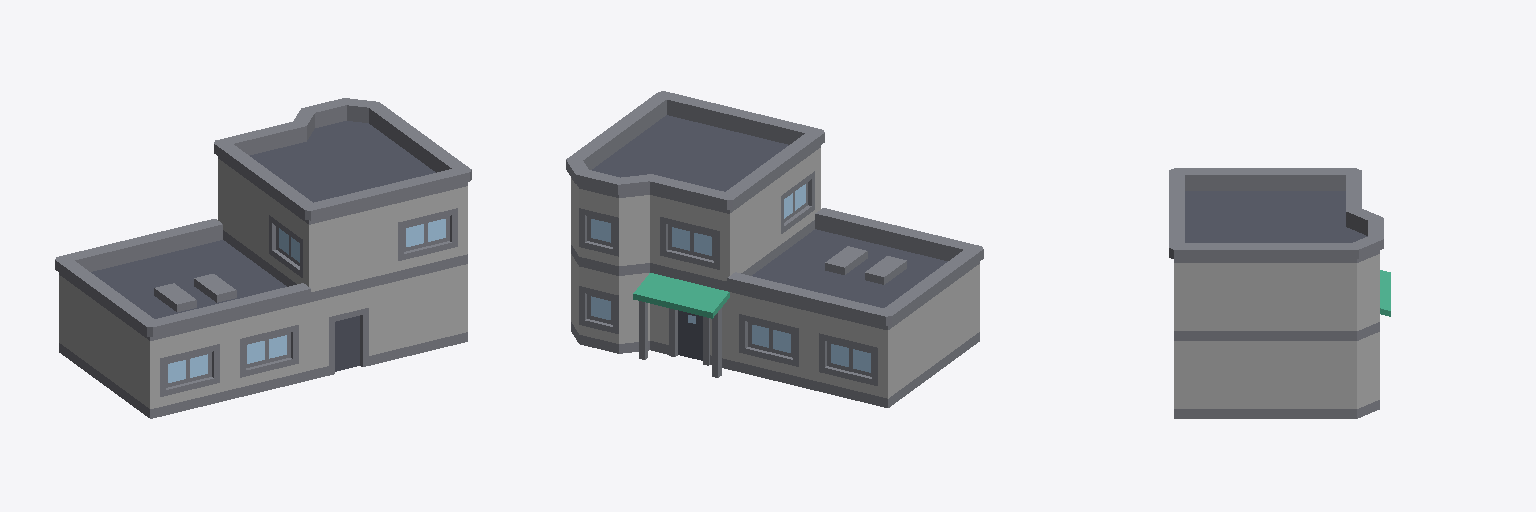
Rendered from city_shop_e.obj.
3 views of the same model, side by side, from view 1: azimuth 30°, elevation 25°; view 2: azimuth 150°, elevation 25°; view 3: azimuth 270°, elevation 25° (orthographic).
Parts seen in each view (by area): view 1: mergedBlocks; view 2: mergedBlocks; view 3: mergedBlocks.
Boxes of the visible parts, box(x1,y1,x2,y2) form: mergedBlocks: box(55, 98, 471, 418); mergedBlocks: box(566, 91, 983, 407); mergedBlocks: box(1169, 168, 1390, 418).
Bounding box in the file's own units: 1.05 × 0.528 × 0.6195.